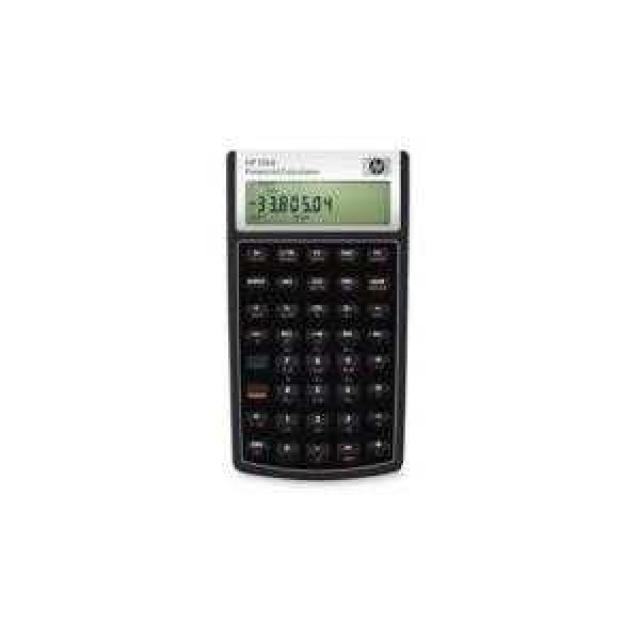Calculator: (224, 137, 410, 491)
